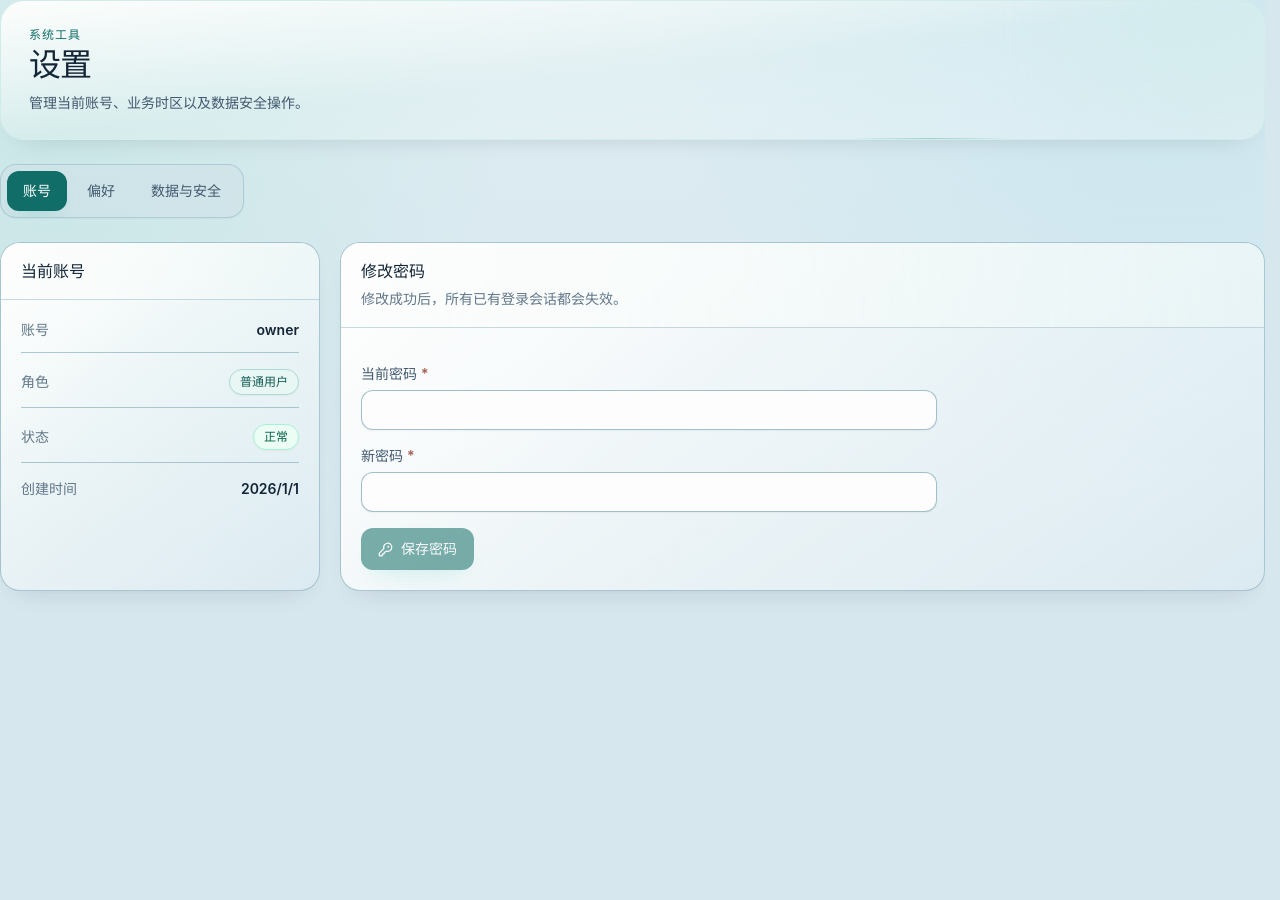
Test: SettingsPage › separates account preferences and destructive data operations
Press the mouse on the tab "偏好" at (101, 191), box [71,171,131,211]
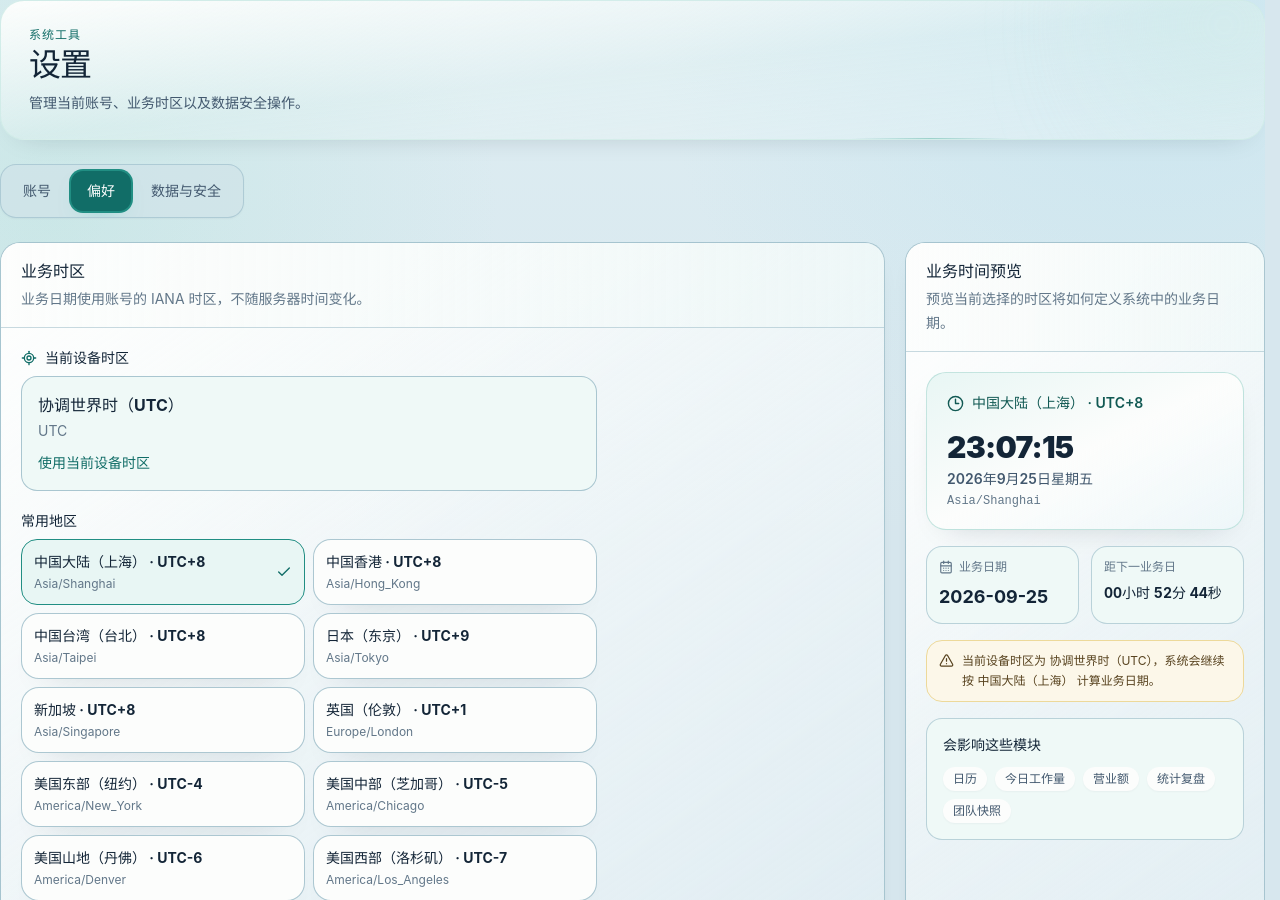
Expected: the heading "当前设备时区" is shown, [45,348,129,368]
Expected: the list named "常用时区" is shown, [21,539,597,899]
Press the mouse on the tab "数据与安全" at (186, 191), box [135,171,237,211]
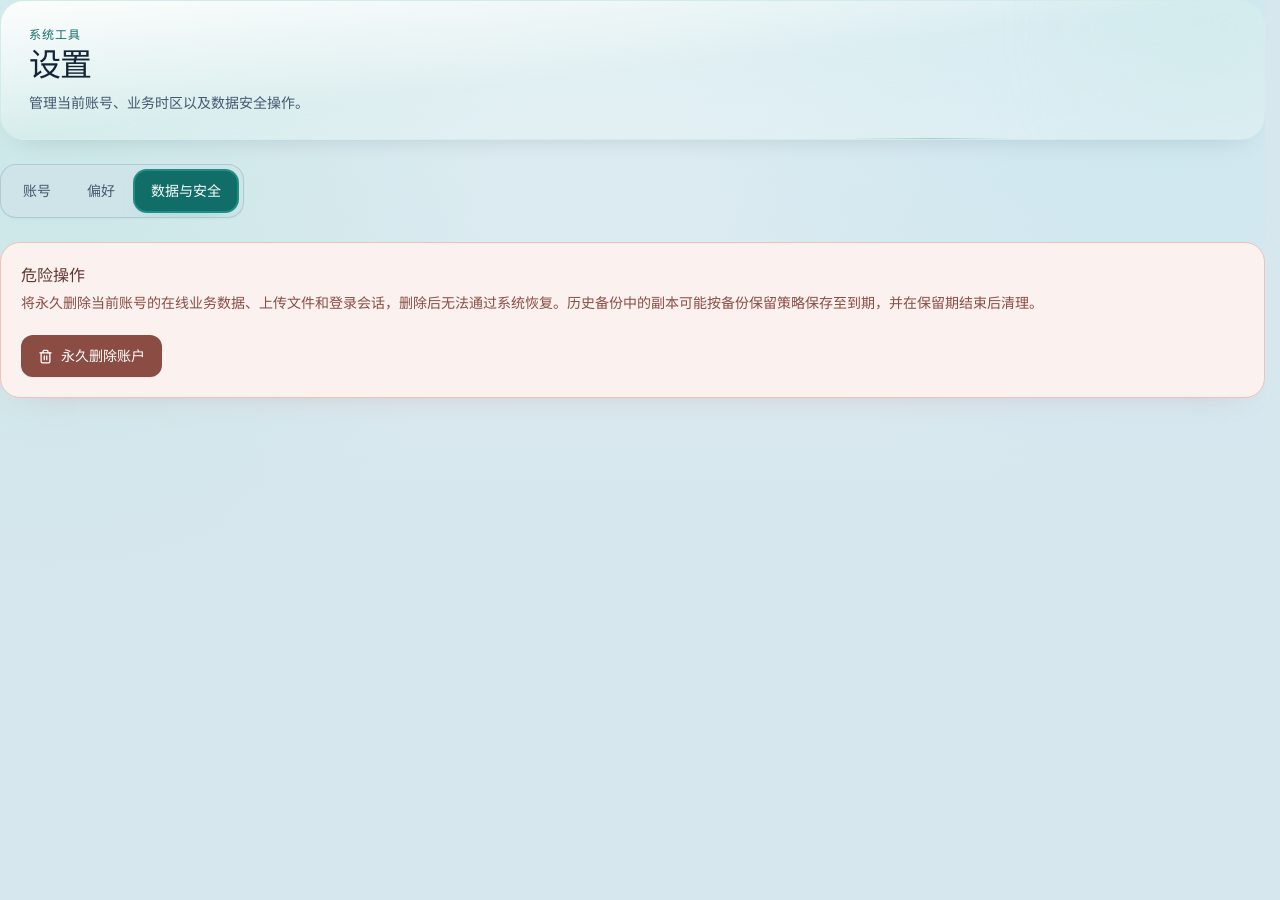
Expected: the button "永久删除账户" is shown, [21,335,162,377]
